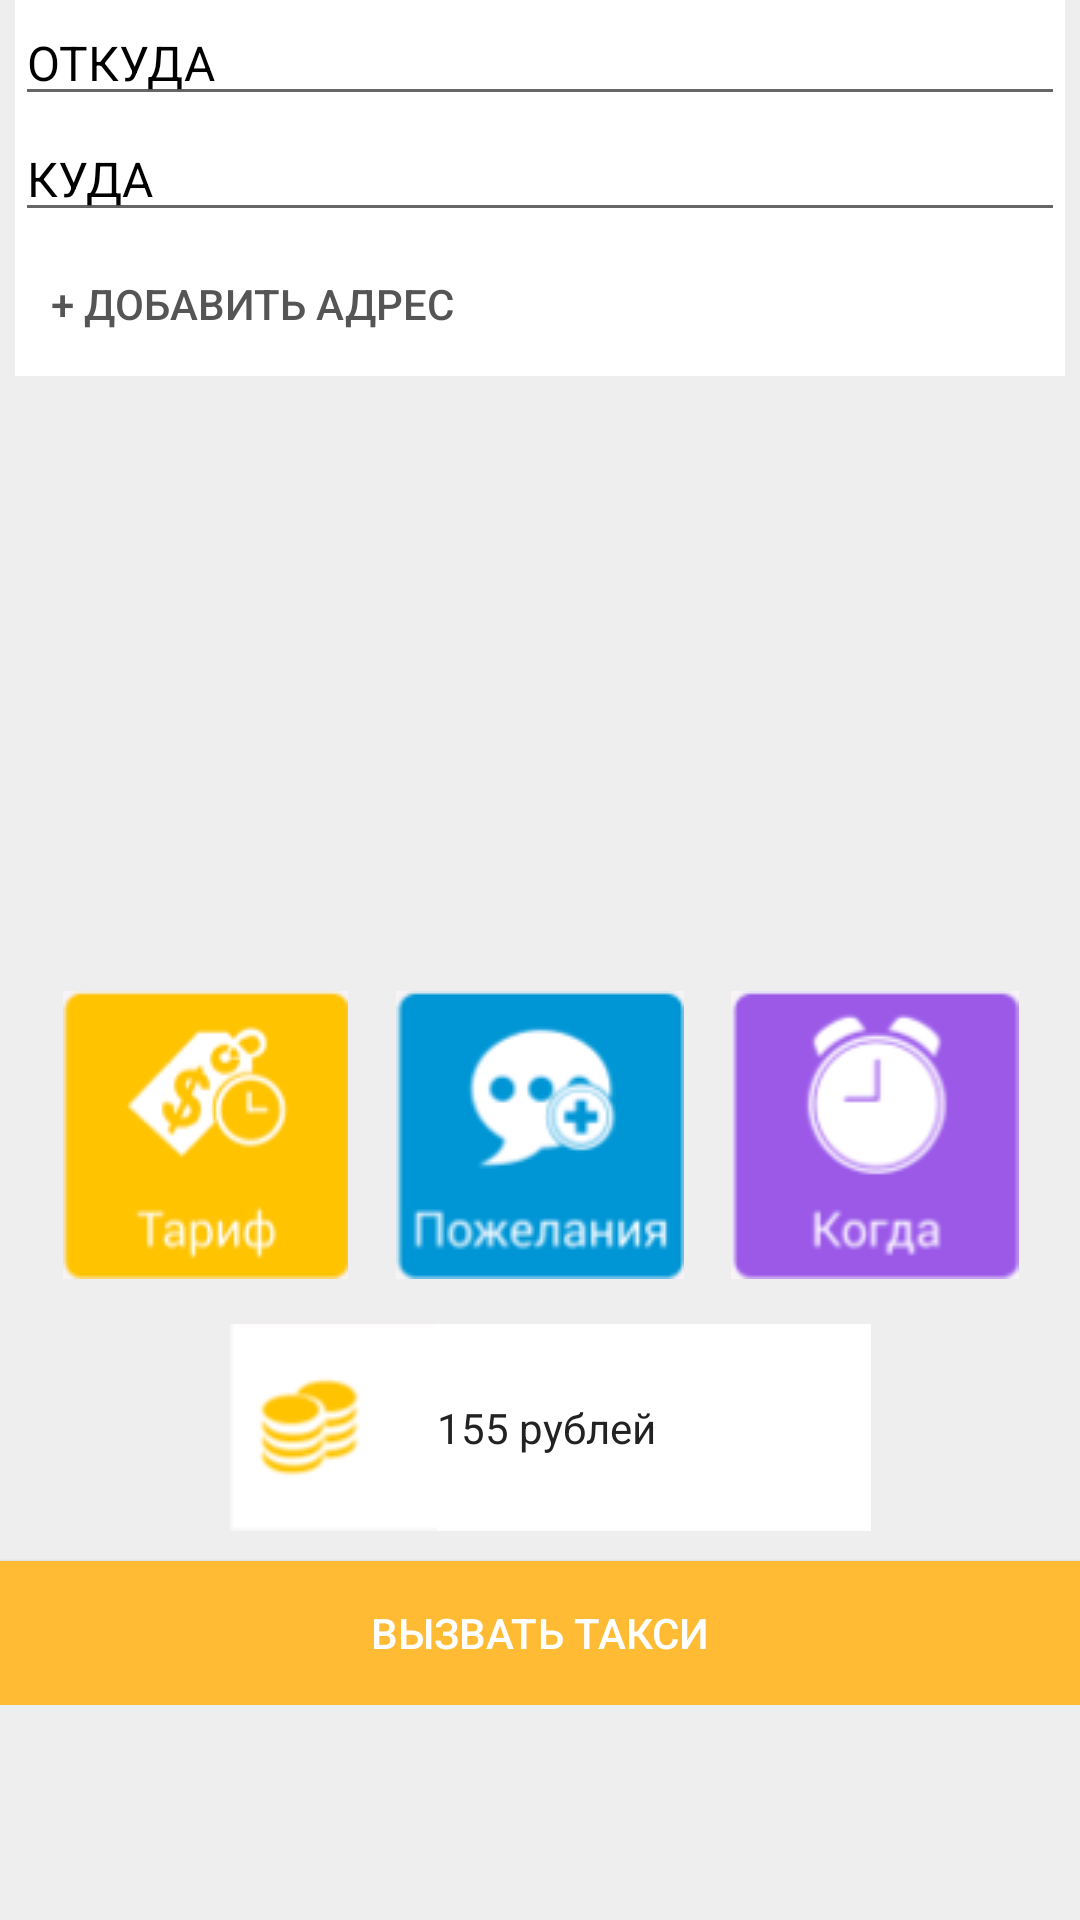

Where to tap for icons on this 1080 x 1920 app screen, as (x,y):
sum: (309,1427)
